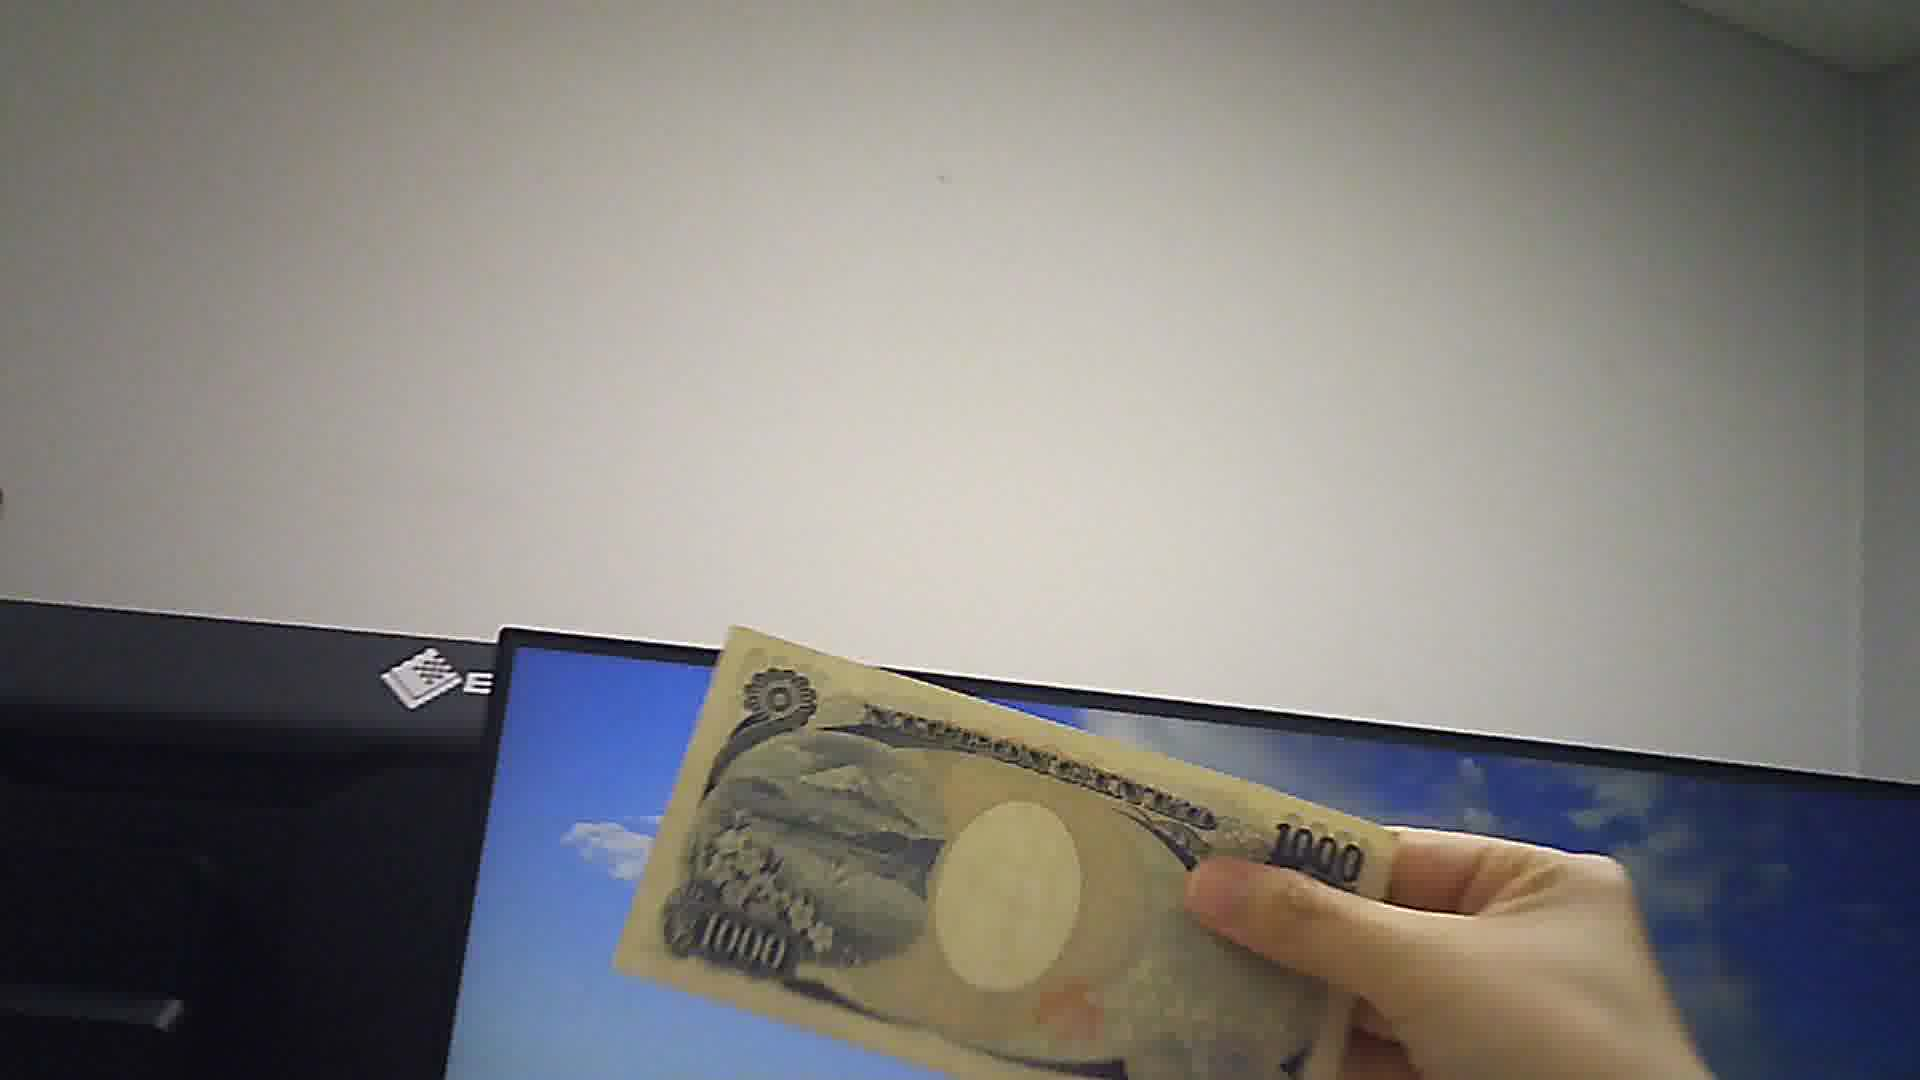1,000 Yen: (589, 622, 1408, 1076)
